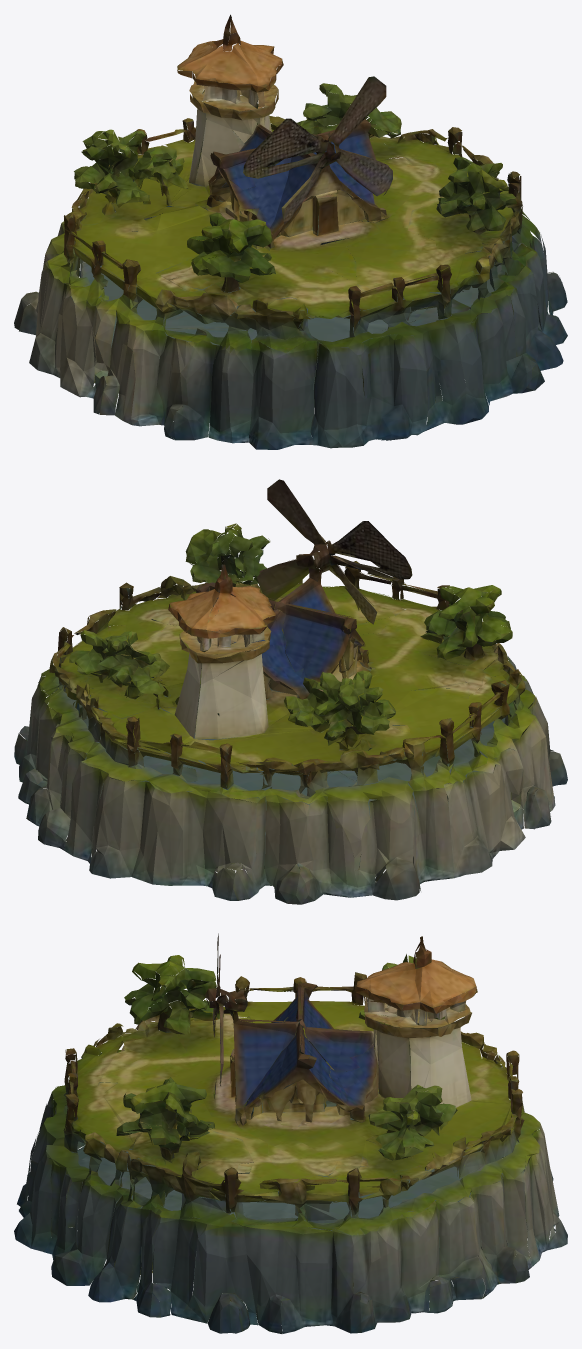
The model's file is ai_isola.glb.
3 renders of one model, top to bottom at view 1: azimuth 30°, elevation 25°; view 2: azimuth 150°, elevation 25°; view 3: azimuth 270°, elevation 25°, orthographic. The views are drawn at different scales.
Visible parts, largest first — view 1: _leggero; view 2: _leggero; view 3: _leggero.
Part boxes in pixels (x1=…): _leggero: x1=14, y1=14, x2=567, y2=449; _leggero: x1=14, y1=479, x2=567, y2=904; _leggero: x1=14, y1=933, x2=567, y2=1333.
Bounding box in the file's own units: 34.13 × 19.5 × 33.97.
Materials: 1 (1 with a texture image).
